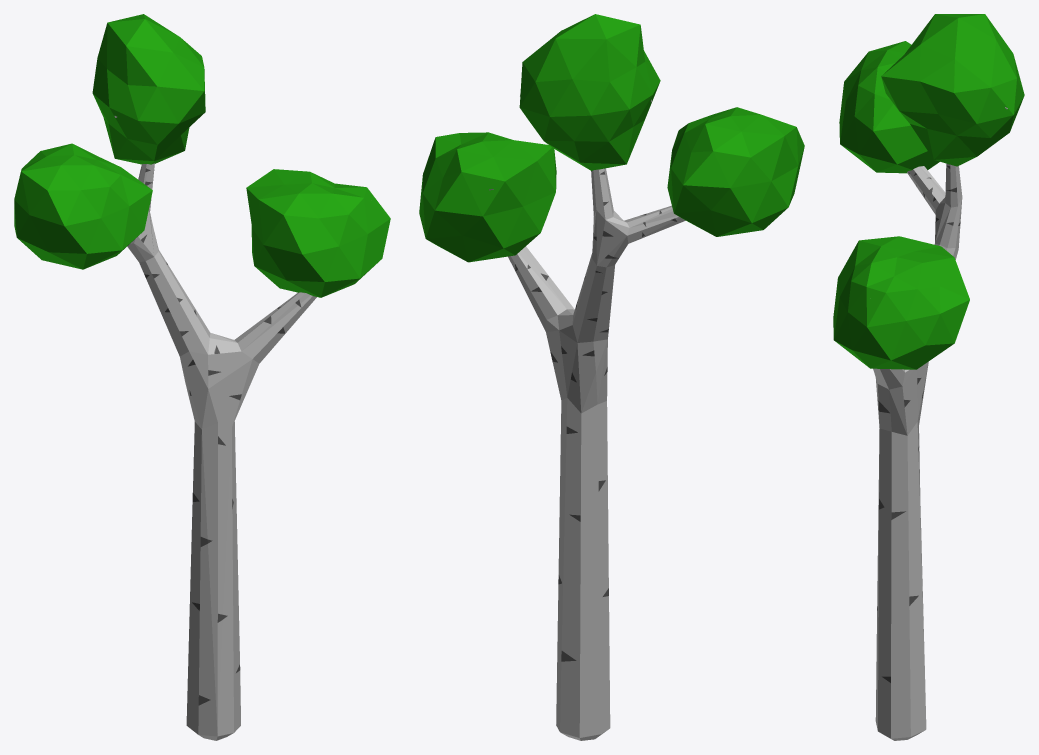
File: Birch_1.fbx
3 views of the same model, side by side, from view 1: azimuth 30°, elevation 25°; view 2: azimuth 150°, elevation 25°; view 3: azimuth 270°, elevation 25° (orthographic). The views are drawn at different scales.
Visible parts, largest first — view 1: Birch1_mesh; view 2: Birch1_mesh; view 3: Birch1_mesh.
Boxes of the visible parts, x1=… form: Birch1_mesh: x1=14, y1=14, x2=390, y2=740; Birch1_mesh: x1=419, y1=14, x2=804, y2=740; Birch1_mesh: x1=833, y1=14, x2=1024, y2=740.
Size of the model in its own units: 361 by 686 by 171.
